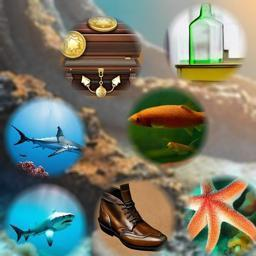not an animal: (96, 184, 168, 251), (184, 4, 230, 72)
treasure: (58, 17, 145, 98)
